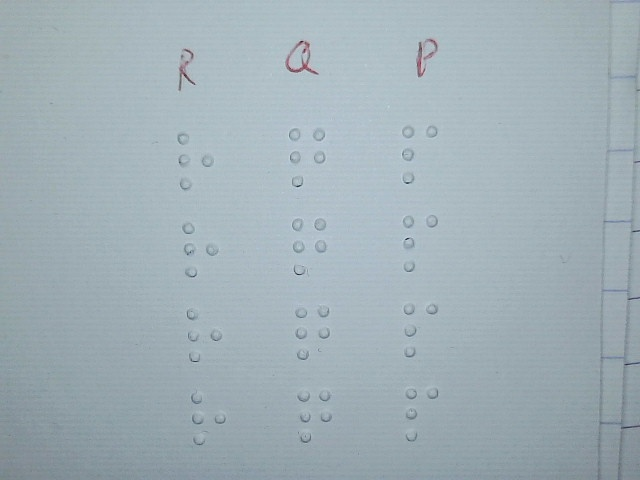P: (400, 122, 438, 184), (401, 211, 439, 273), (402, 299, 440, 358), (404, 385, 440, 443)
Q: (288, 126, 326, 188), (291, 214, 329, 276), (294, 303, 332, 360), (297, 386, 332, 442)
R: (176, 130, 214, 192), (182, 220, 220, 278), (185, 304, 223, 362), (190, 389, 228, 447)
